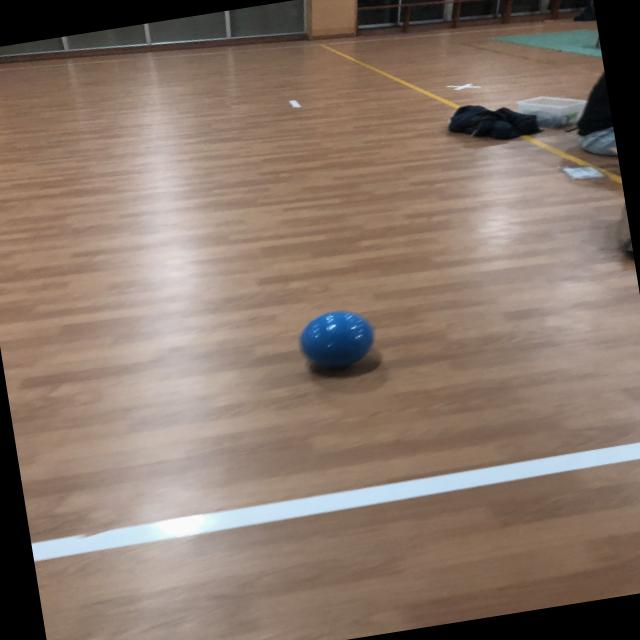blue_ball: (294, 303, 381, 373)
